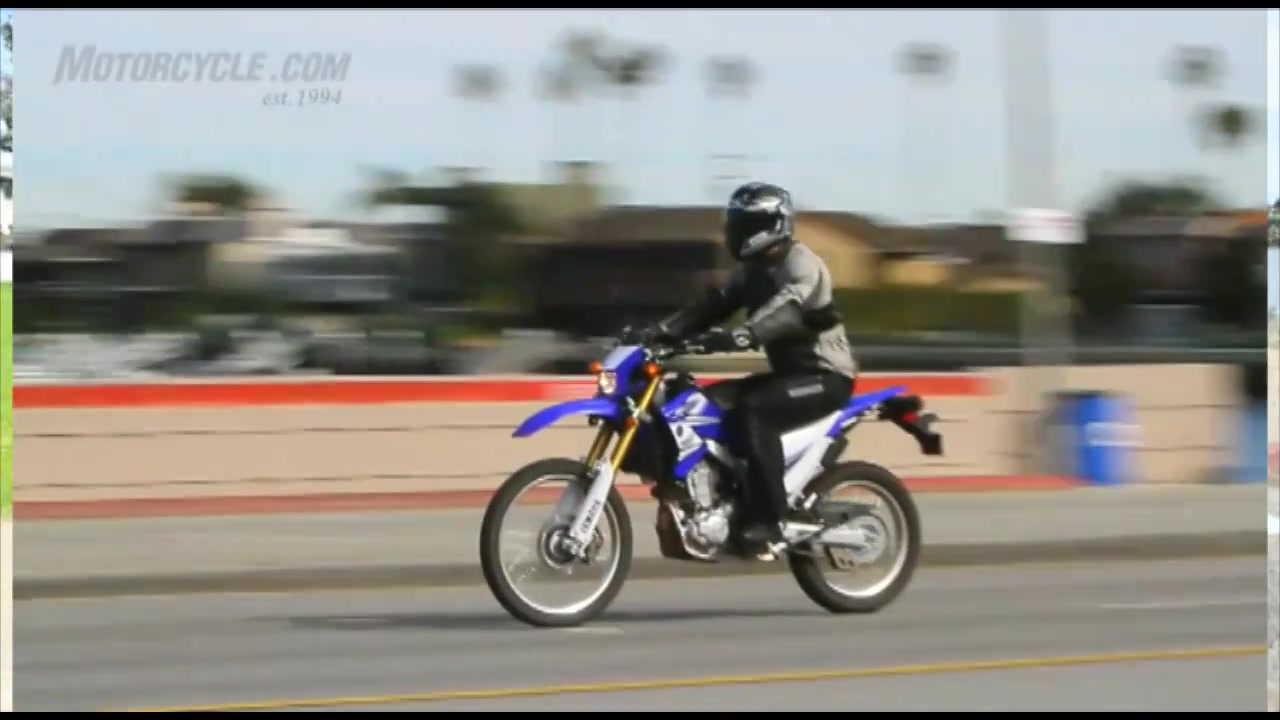motorbike: (482, 322, 945, 626)
